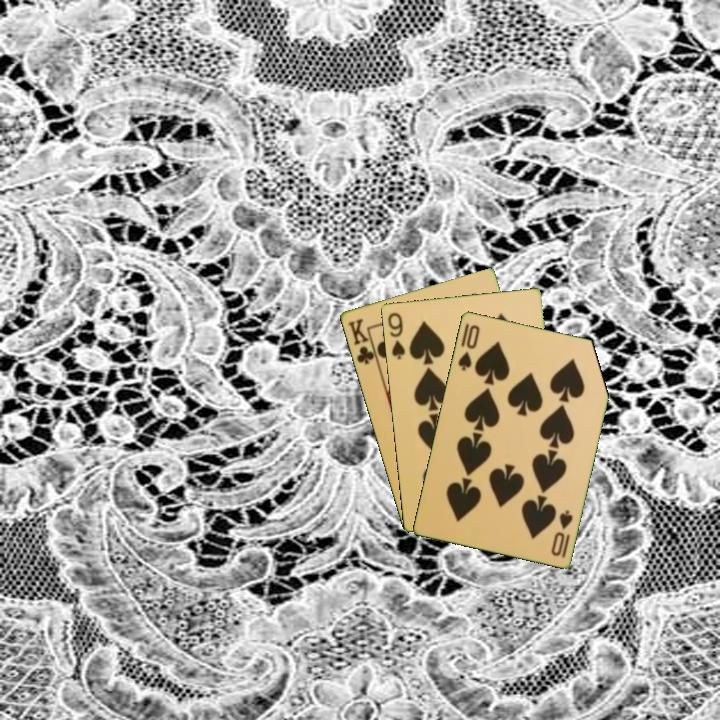10s: (547, 506, 576, 560), (454, 321, 482, 373)
9s: (384, 309, 408, 362)
Kc: (344, 315, 380, 367)
